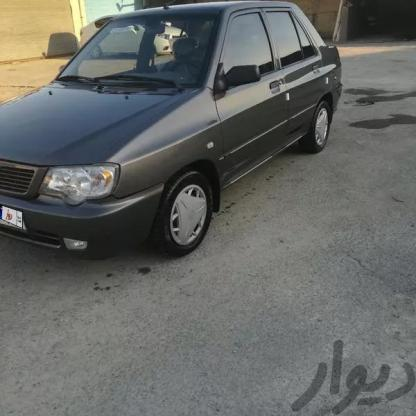Car: (0, 0, 347, 258), (70, 14, 190, 53)
